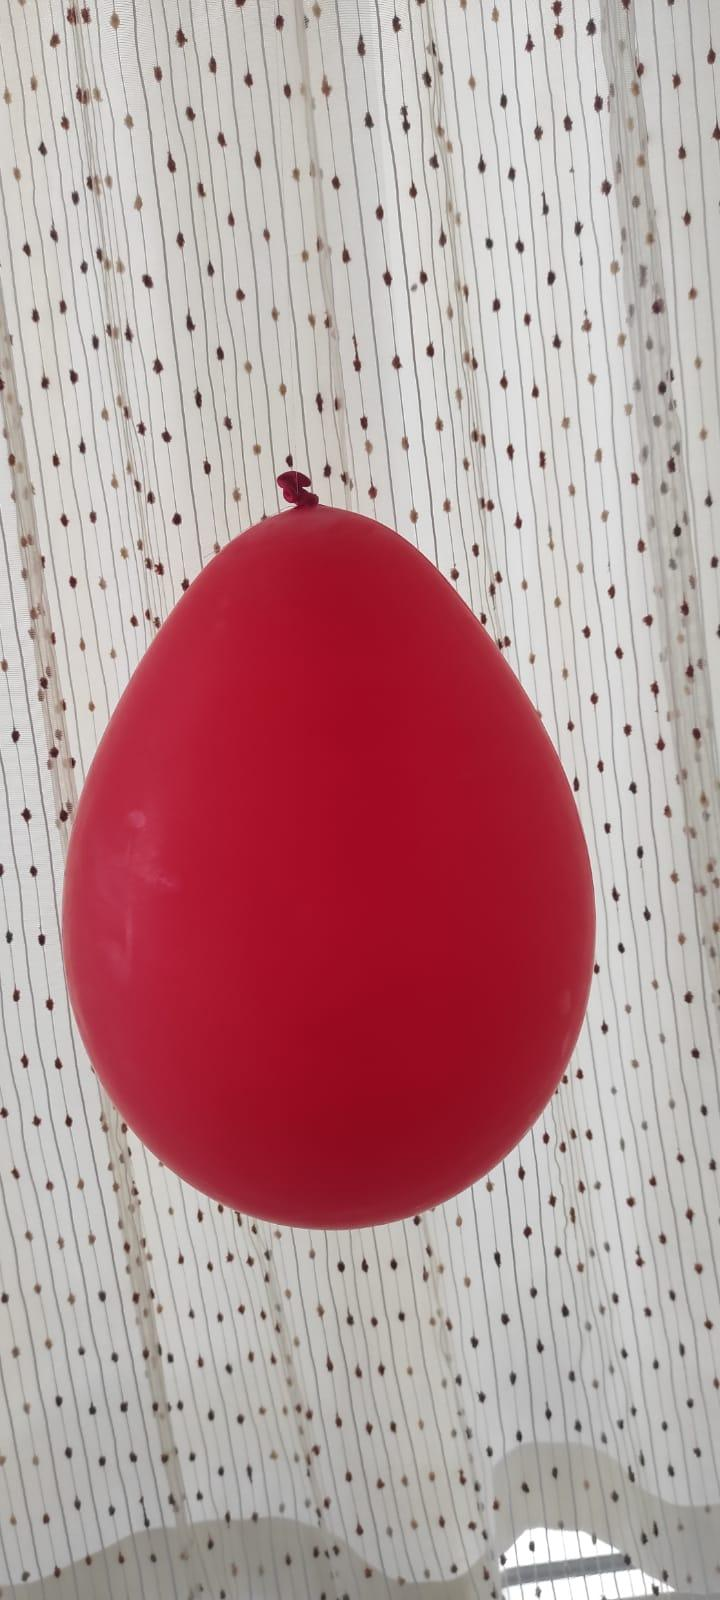red: (60, 467, 599, 1239)
